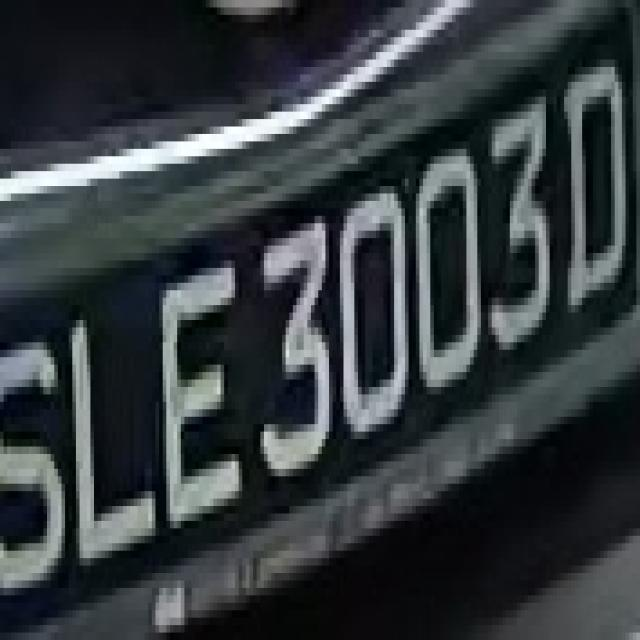0: (329, 178, 412, 446), (409, 164, 488, 394)
3: (246, 208, 336, 492), (474, 75, 550, 342)
D: (560, 52, 633, 320)
E: (156, 246, 253, 558)
L: (47, 283, 159, 558)
S: (4, 298, 72, 610)
